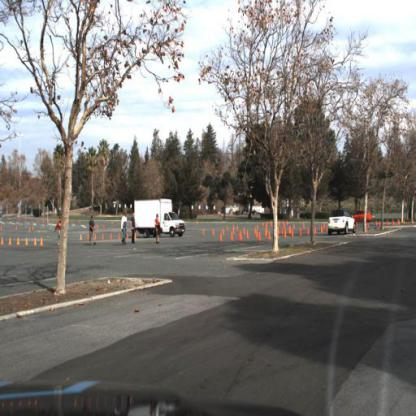car: (328, 208, 360, 236), (351, 210, 375, 224)
pedestrian: (121, 212, 130, 245), (55, 217, 65, 245), (155, 215, 164, 245), (89, 216, 97, 248), (131, 213, 138, 245)
truck: (133, 197, 185, 237)
